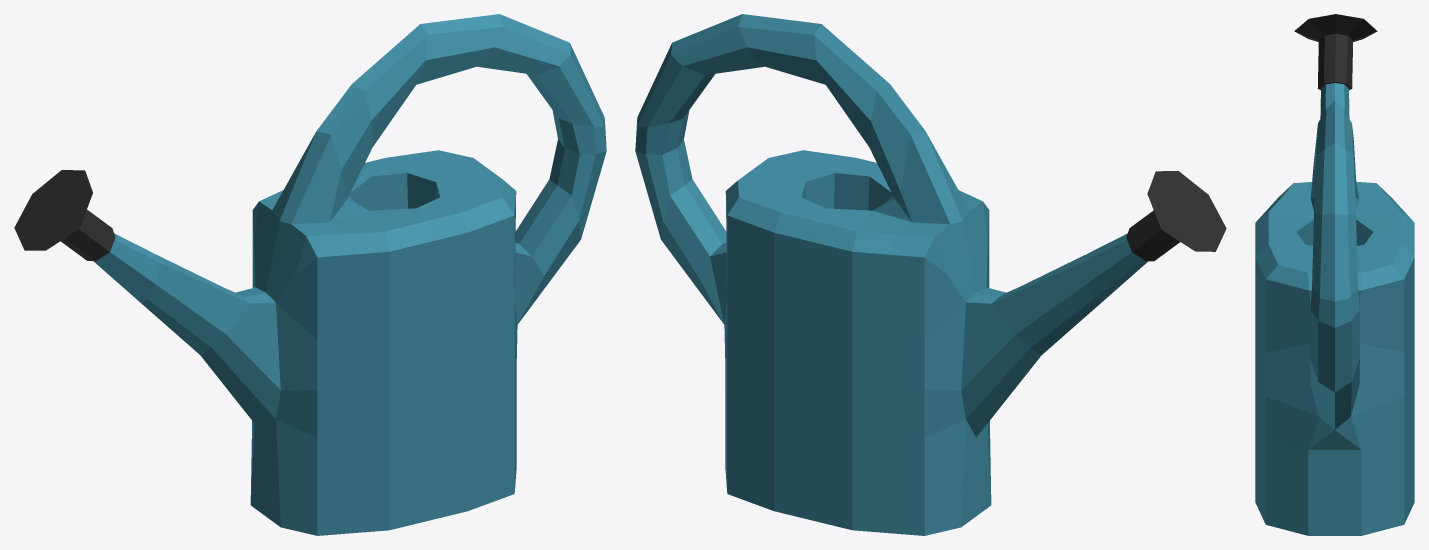
The model's file is watering_can.glb.
The picture shows the model from 3 angles, left to right: view 1: azimuth 30°, elevation 25°; view 2: azimuth 150°, elevation 25°; view 3: azimuth 270°, elevation 25°; orthographic projection. The views are drawn at different scales.
Parts seen in each view (by area): view 1: Куб; view 2: Куб; view 3: Куб.
Boxes of the visible parts, x1,y1,x2,y2 form: Куб: (14,14,606,535); Куб: (635,14,1226,535); Куб: (1255,14,1414,535).
Bounding box in the file's own units: 0.7833 × 0.5865 × 0.2114.
